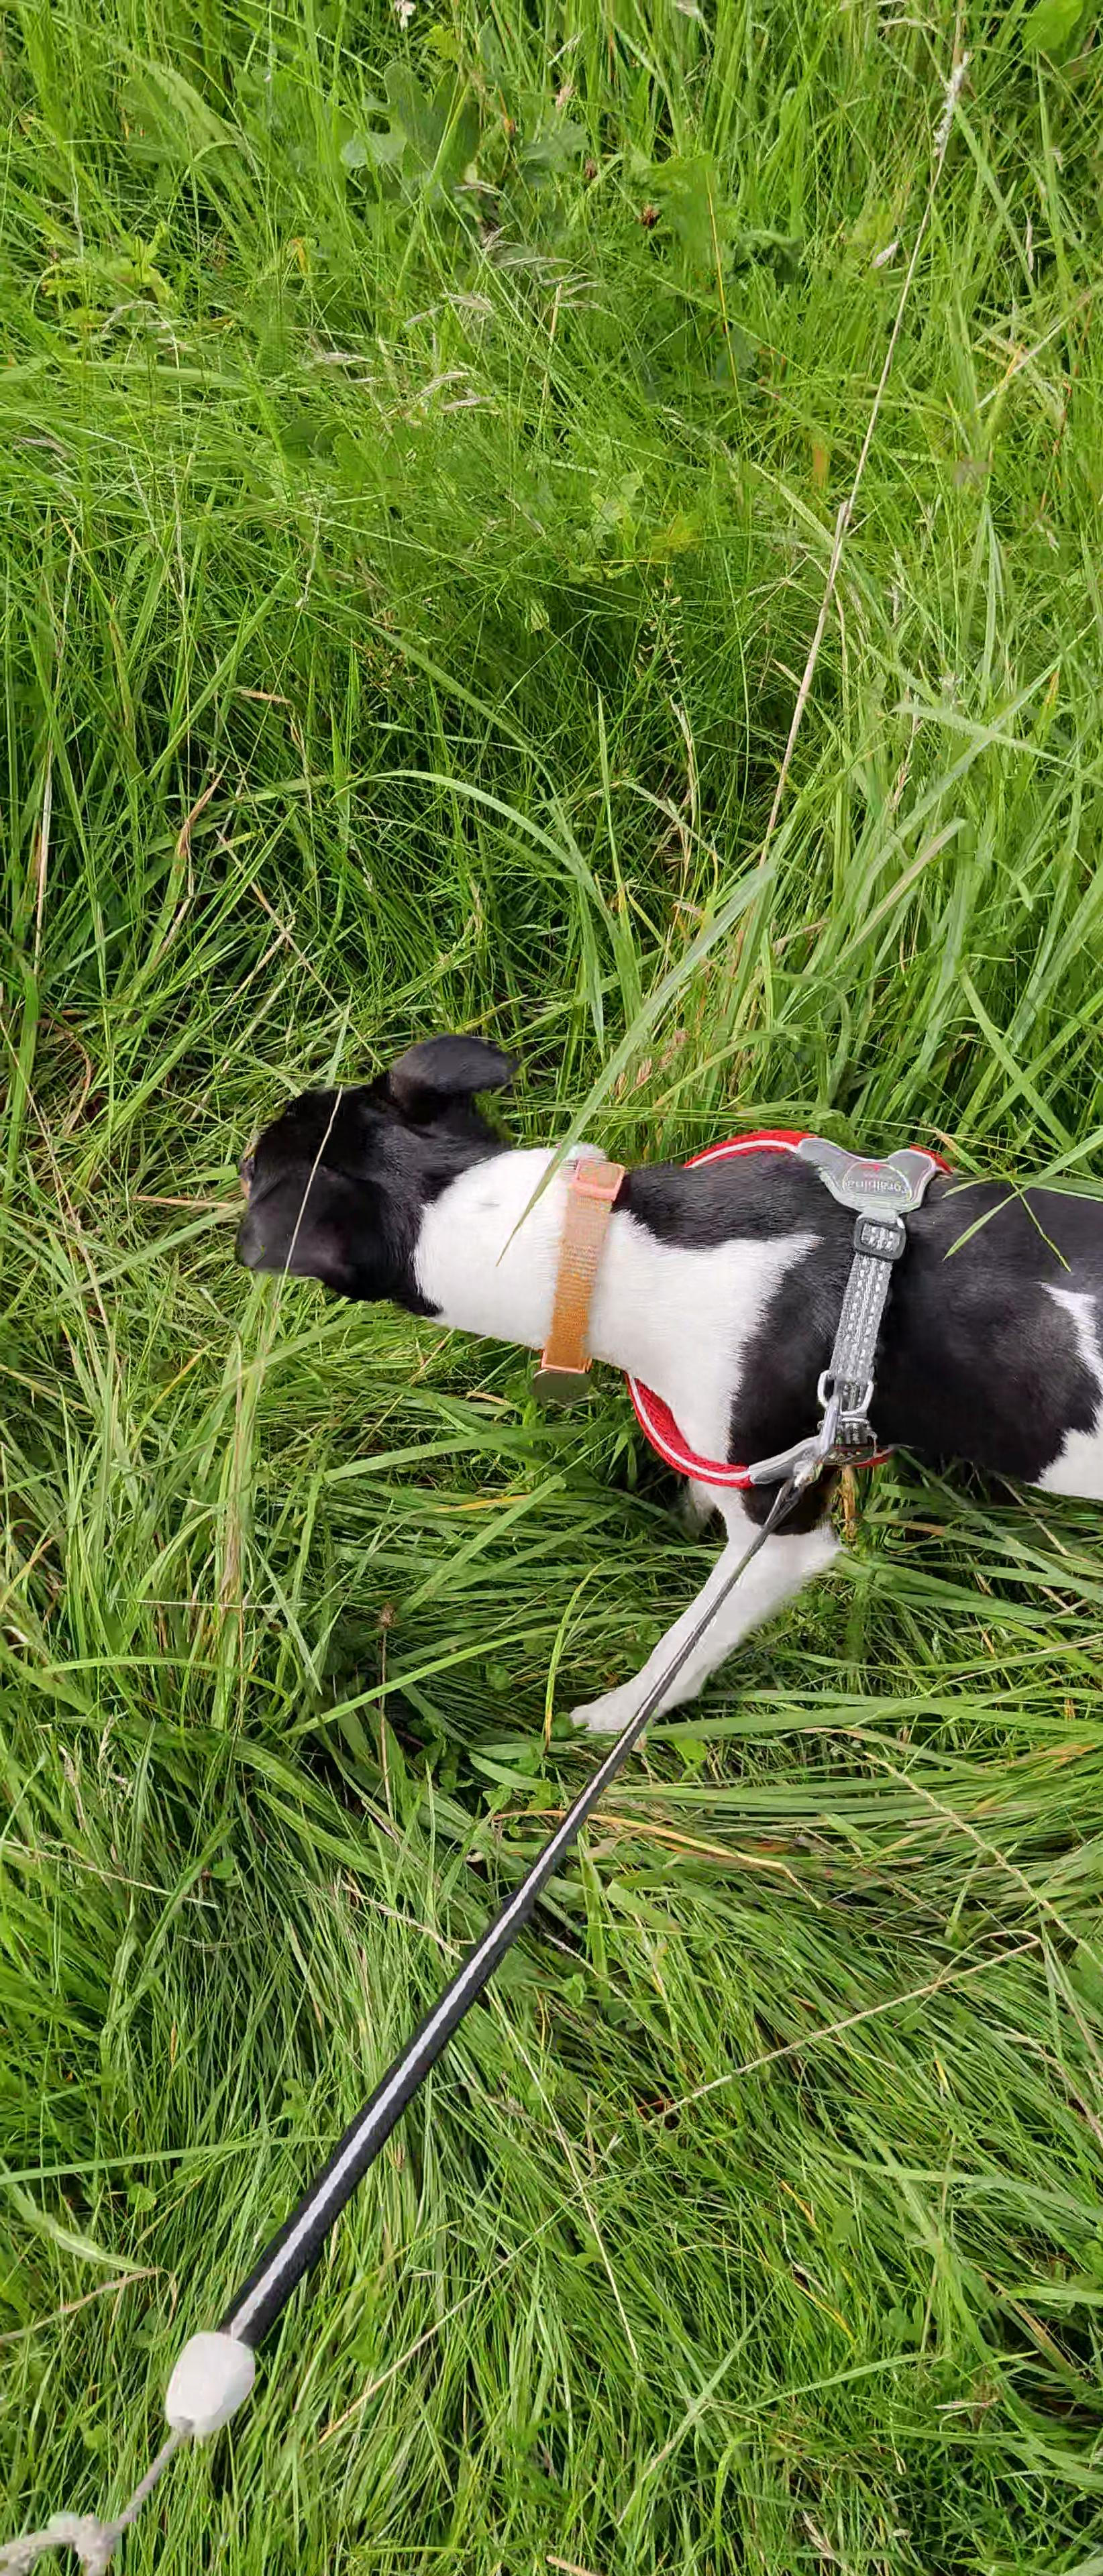Dog: (215, 1014, 1103, 1746)
